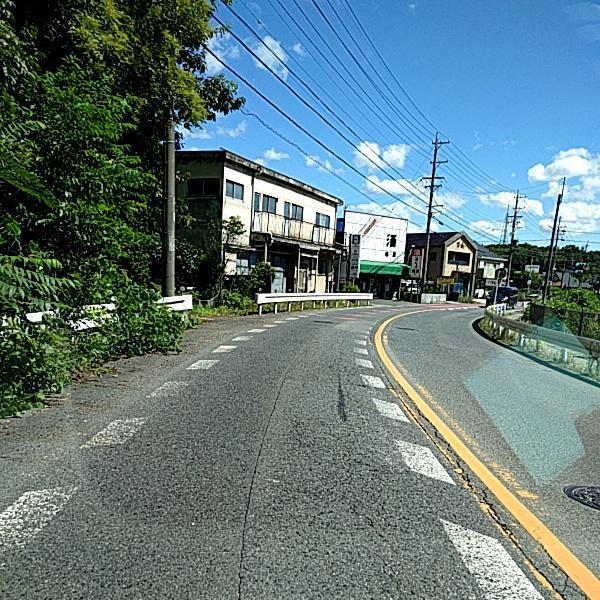D44: (358, 321, 598, 592), (0, 324, 269, 556)
D50: (560, 481, 599, 506)
